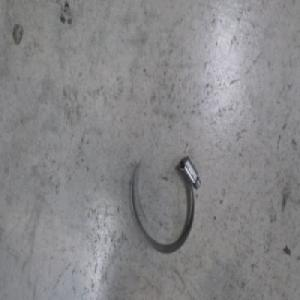AdjustableClamp: (129, 152, 201, 257)
